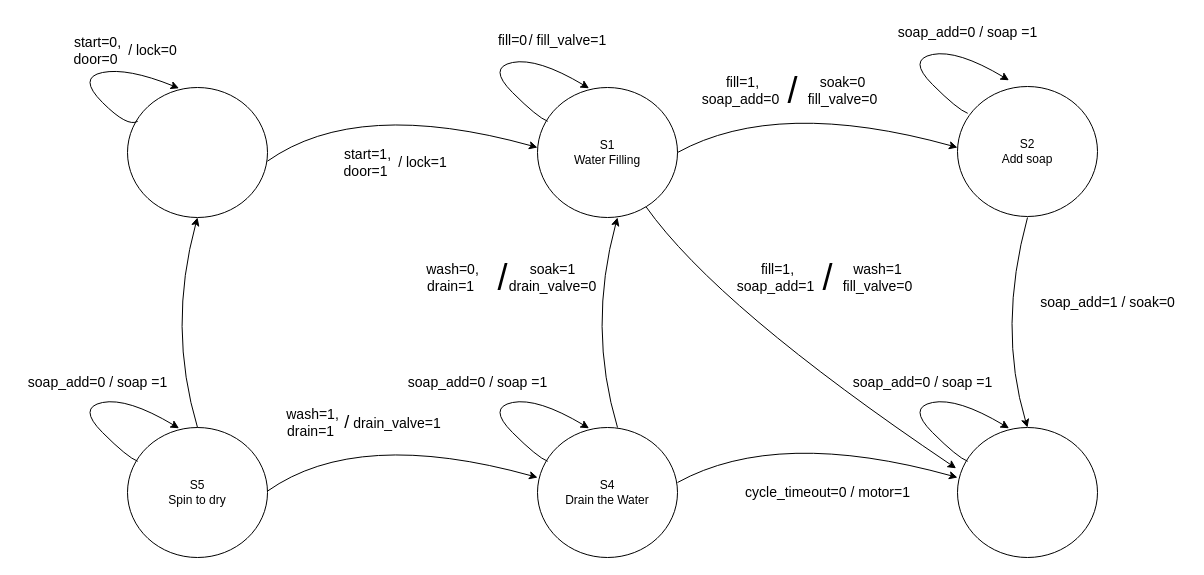
Some shapes in this 1204 by 575 pixel diagram are drawn without their labels. The shapes that lost their labels are listed below. From the top down, each one's box as (x1, y1, x2, y2) in pixels, then its label:
(126, 86, 268, 218): S0 Check Door
(956, 426, 1098, 558): S3 Rinse
